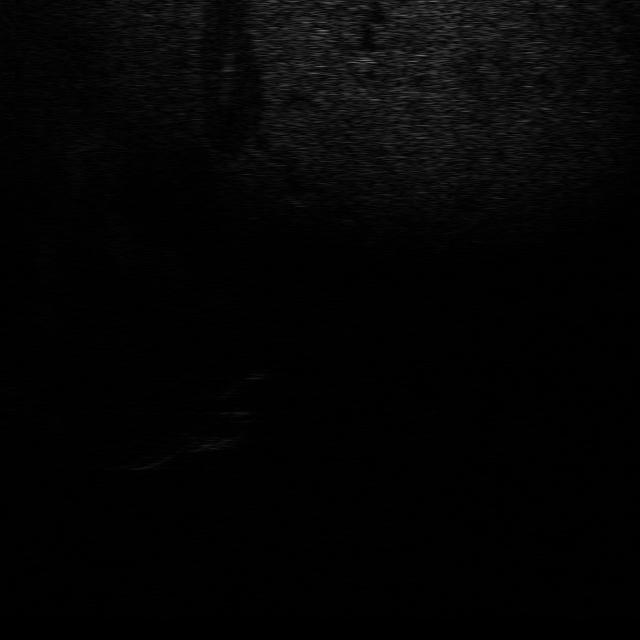ball: (218, 364, 272, 394)
square cage: (99, 442, 190, 473)
tyre: (176, 405, 254, 449)
